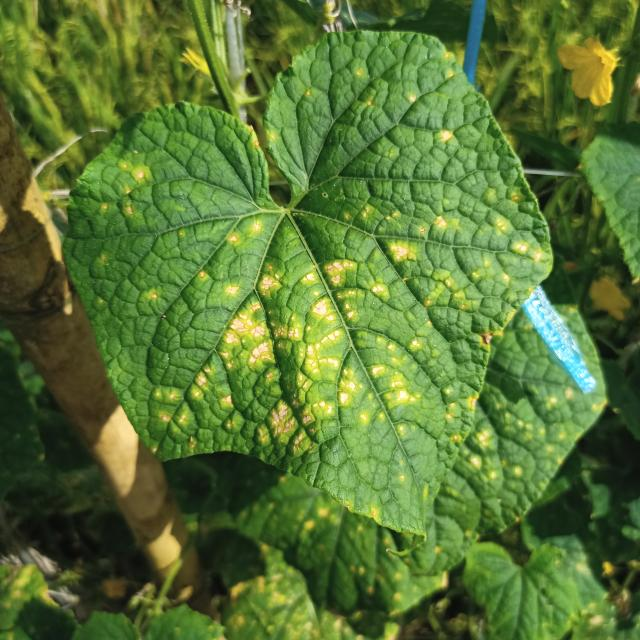disease_cucumber: (101, 71, 556, 488)
